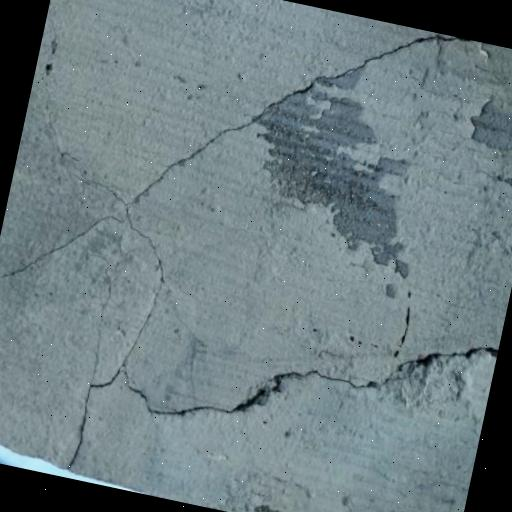spalling: (130, 31, 467, 201), (60, 343, 496, 472), (0, 210, 165, 360)
